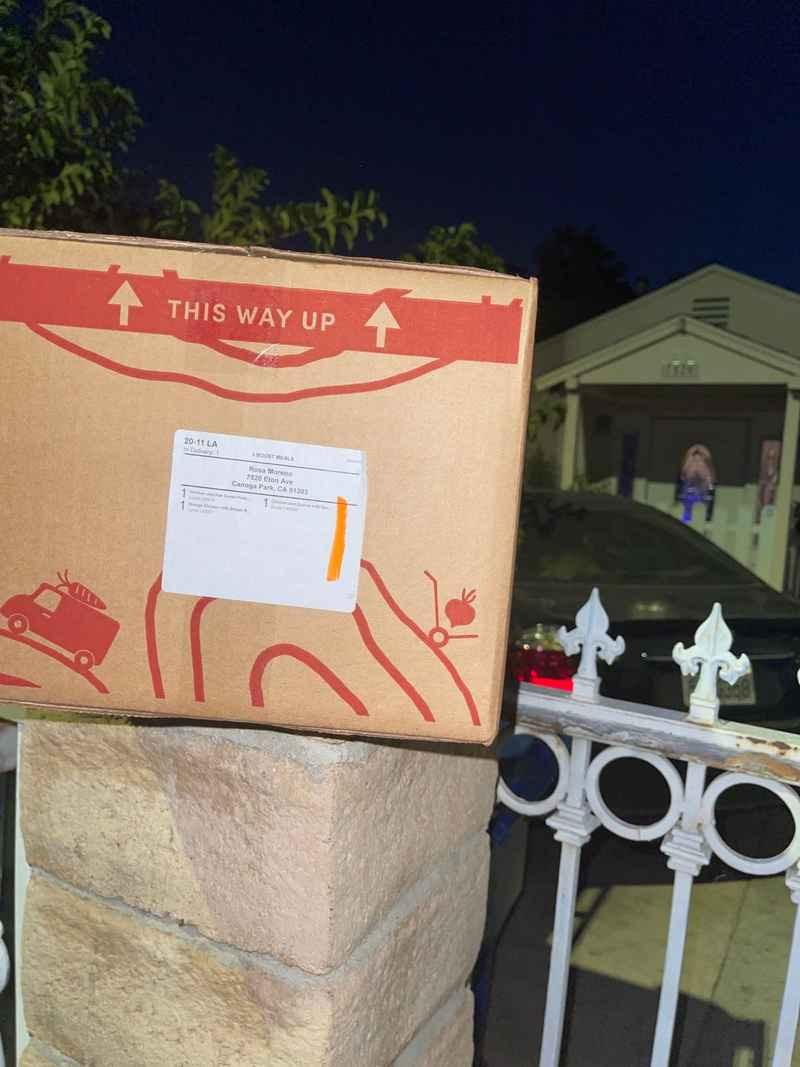package: (0, 242, 545, 725)
